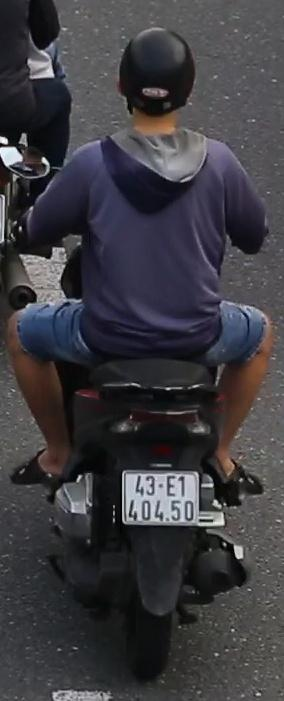LP: (118, 466, 204, 533), (0, 190, 9, 250)
helmet: (115, 23, 199, 144)
